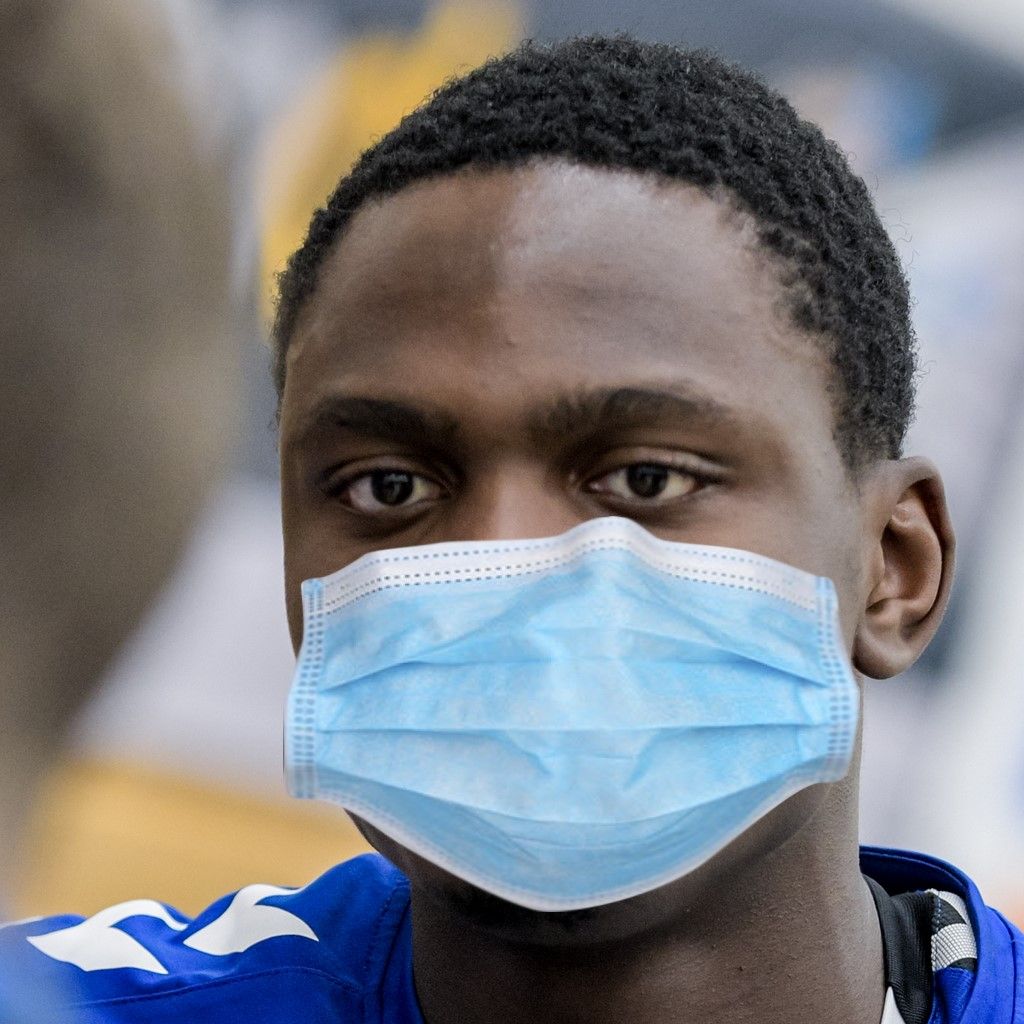con_mascara: (284, 127, 873, 928)
